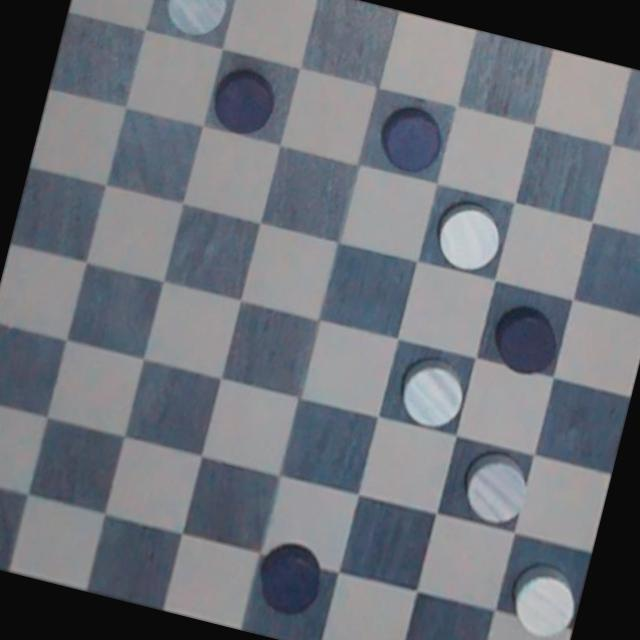BOARD: (0, 0, 640, 640)
black: (246, 528, 340, 624), (482, 296, 570, 388), (366, 94, 452, 181), (204, 59, 286, 144)
white: (453, 440, 547, 538), (500, 543, 589, 640), (386, 351, 475, 444), (426, 190, 512, 282), (152, 0, 240, 48)
